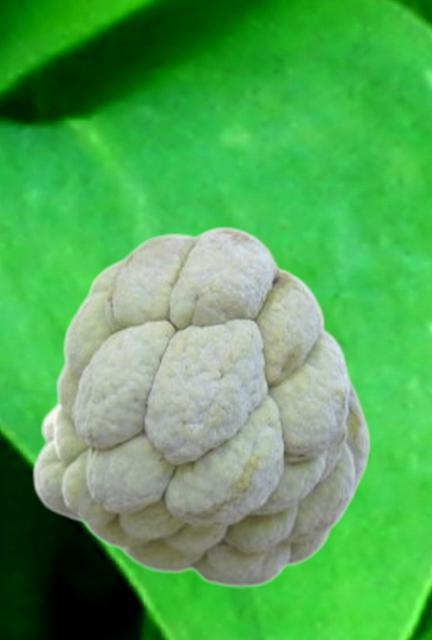atis: (31, 225, 370, 587)
